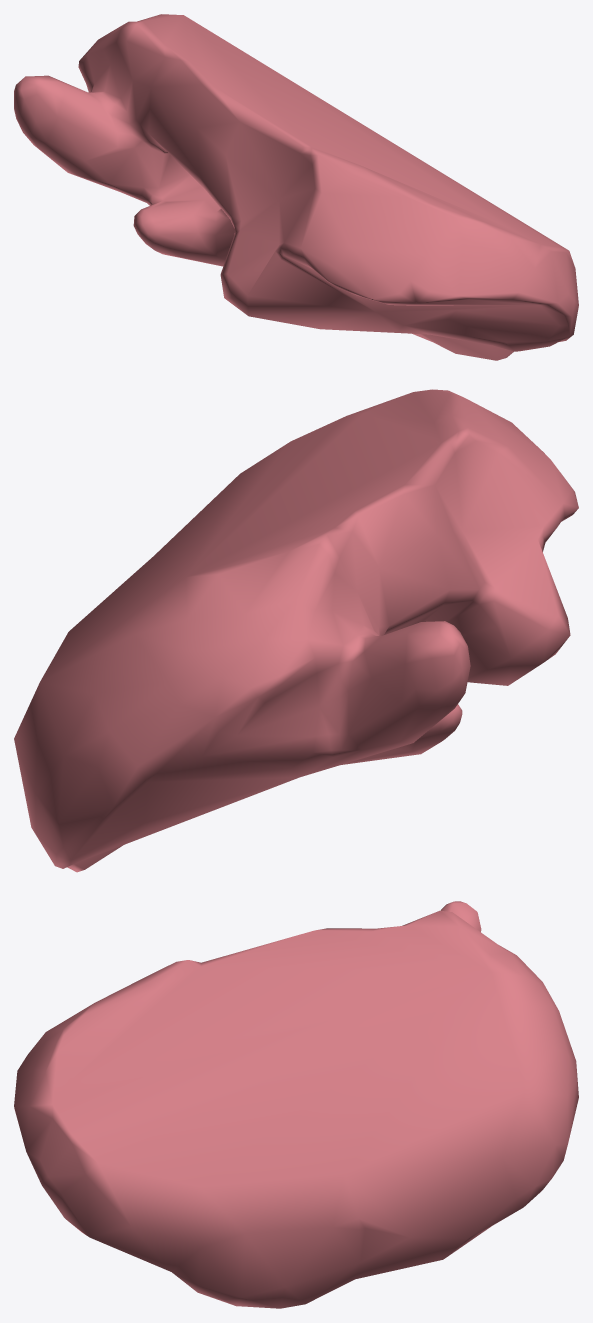
3 views of the same model, one above another, from view 1: azimuth 30°, elevation 25°; view 2: azimuth 150°, elevation 25°; view 3: azimuth 270°, elevation 25° (orthographic). The views are drawn at different scales.
Visible parts, largest first — view 1: 右心室隔侧乳头肌; view 2: 右心室隔侧乳头肌; view 3: 右心室隔侧乳头肌.
Part boxes in pixels (x1,y1,x2,y2): 右心室隔侧乳头肌: (14, 14, 578, 360); 右心室隔侧乳头肌: (14, 389, 578, 872); 右心室隔侧乳头肌: (14, 901, 578, 1308).
Size of the model in its own units: 0.0297 by 0.0234 by 0.0409.
